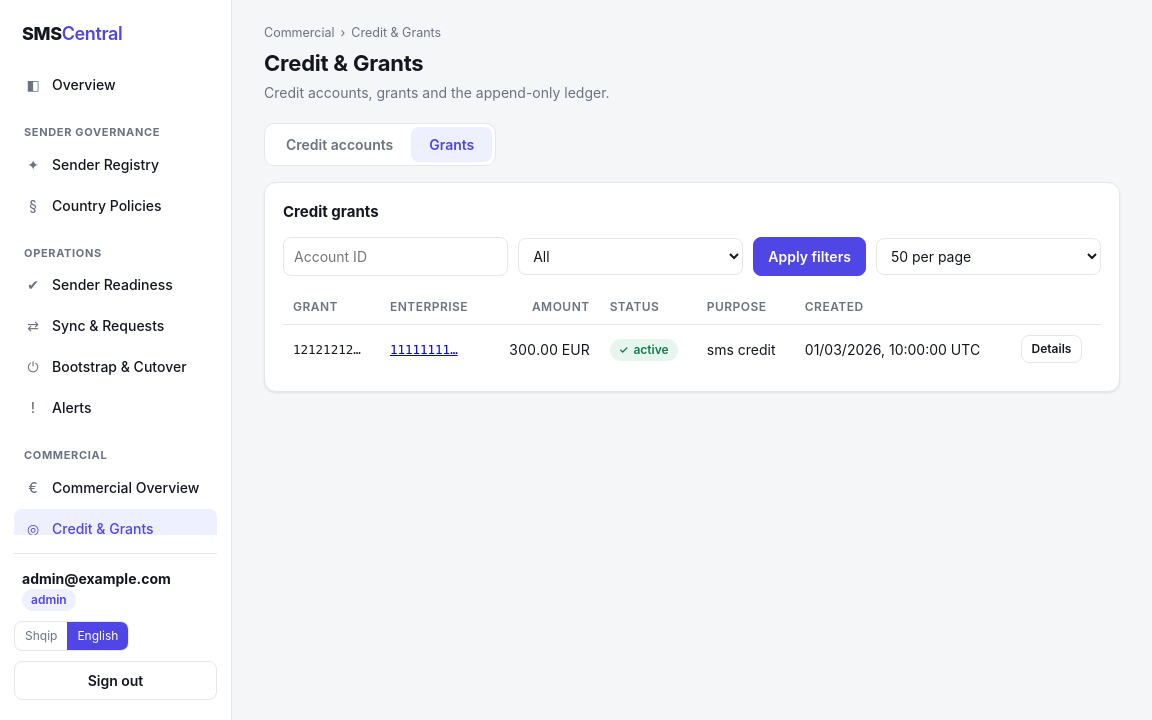
Test: overview, credit and grants › 9 grants tab lists grants and opens a read-only detail
Expected: the navigation bar named "Main navigation" is shown, [14,65,217,535]
Click the button with aria-label "Details for grant".
click(1052, 349)  # box [1021,335,1082,363]
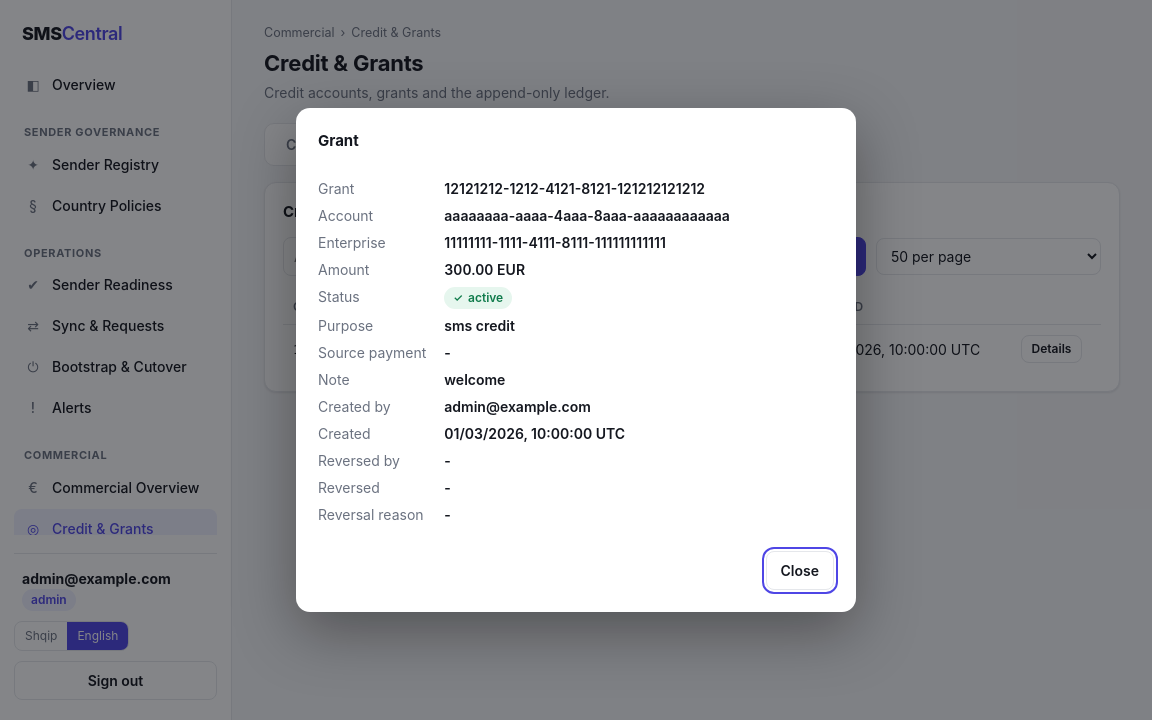
Result: the text "welcome" is shown at [444,371,505,388]
Result: the buttons read "Close", in this order at [766,551,834,590]
